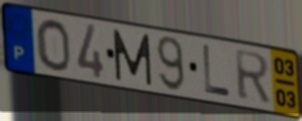4: (75, 21, 106, 82)
9: (154, 35, 187, 94)
L: (201, 43, 232, 100)
M: (111, 27, 154, 88)
O: (34, 17, 73, 74)
R: (233, 48, 273, 105)
